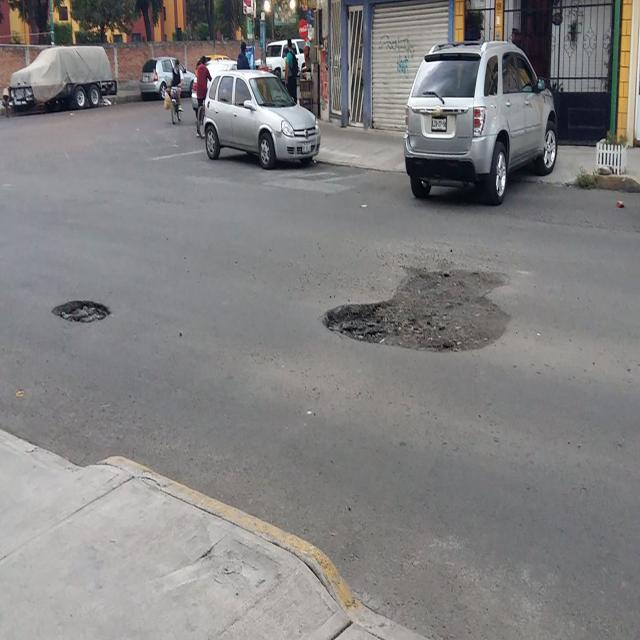Pothole: (303, 239, 552, 427), (47, 272, 118, 370)
